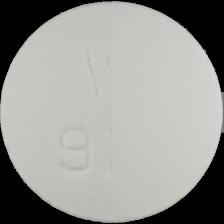64679-921: (0, 0, 224, 224)
